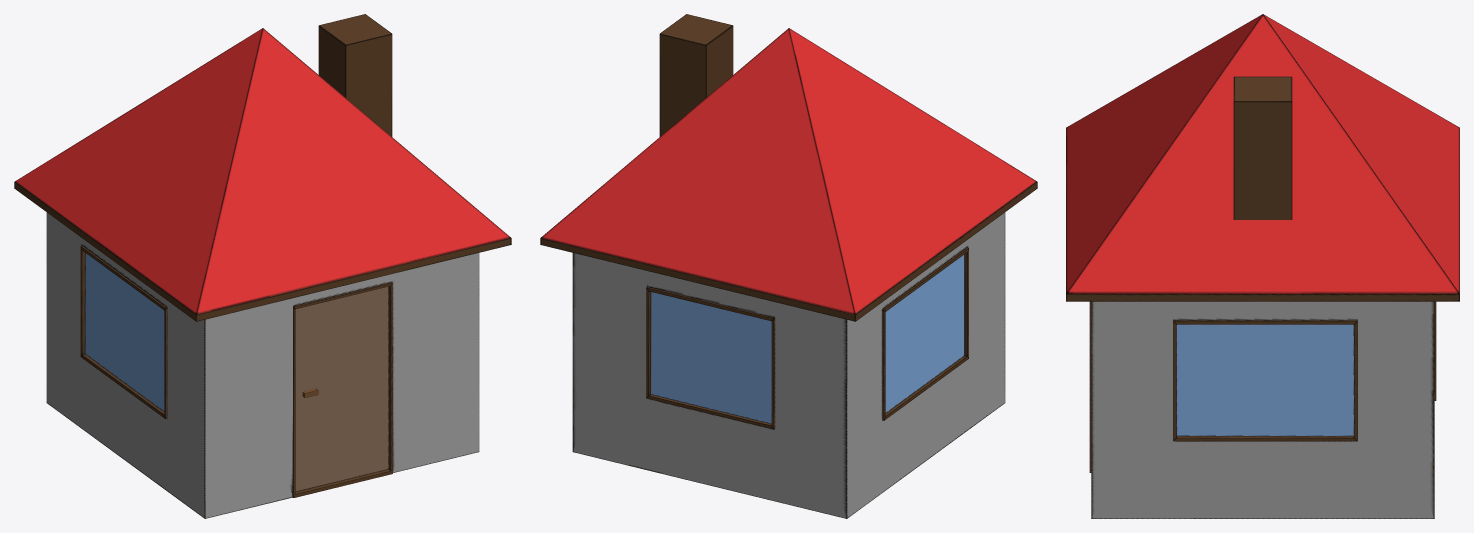
The model's file is House.fbx.
3 renders of one model, left to right at view 1: azimuth 30°, elevation 25°; view 2: azimuth 150°, elevation 25°; view 3: azimuth 270°, elevation 25°, orthographic. The views are drawn at different scales.
Parts seen in each view (by area): view 1: House; view 2: House; view 3: House.
Part boxes in pixels (x1,y1,x2,y2): House: (14,14,511,518); House: (540,14,1037,518); House: (1066,14,1459,518).
Size of the model in its own units: 3175 by 3847 by 3175.
1 material, 1 textured.
